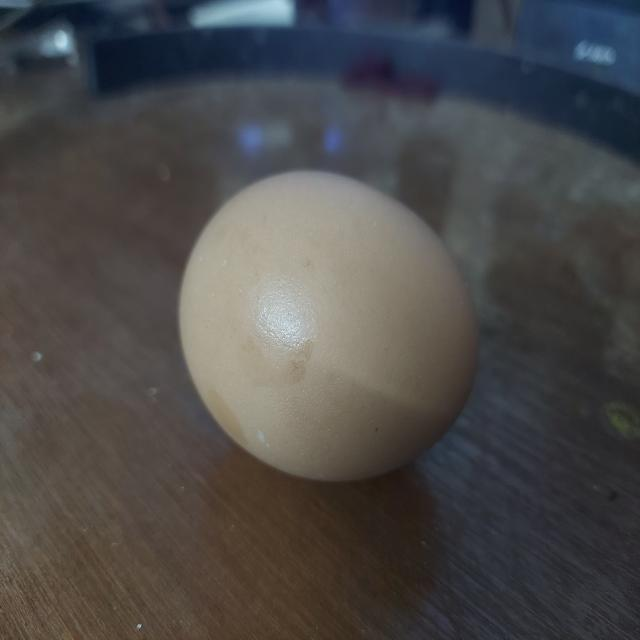Egg: (166, 162, 491, 486)
